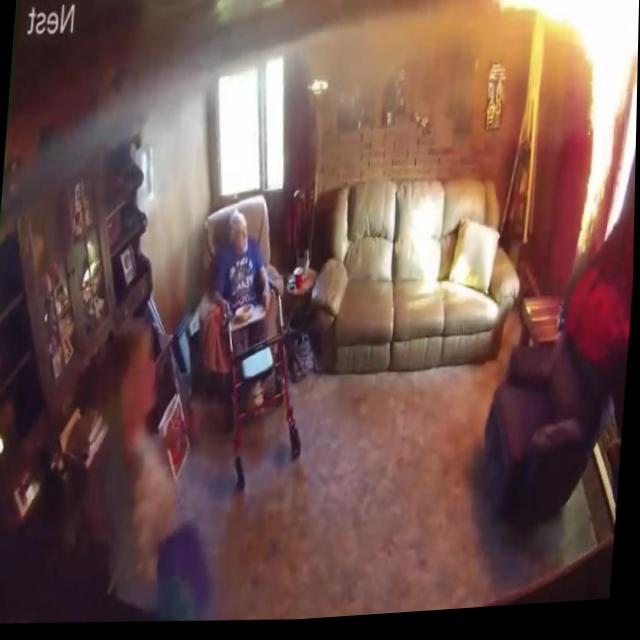fire: (567, 0, 640, 265), (485, 0, 640, 61)
